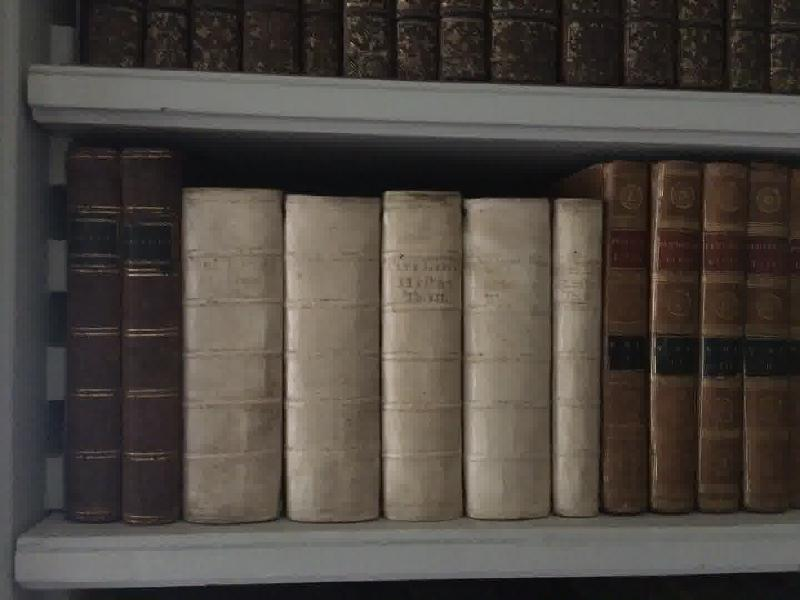Kk4-1_2: (56, 136, 190, 533)
Kk4-3_7: (179, 180, 608, 526)
Kk4-8_13: (595, 158, 800, 519)
